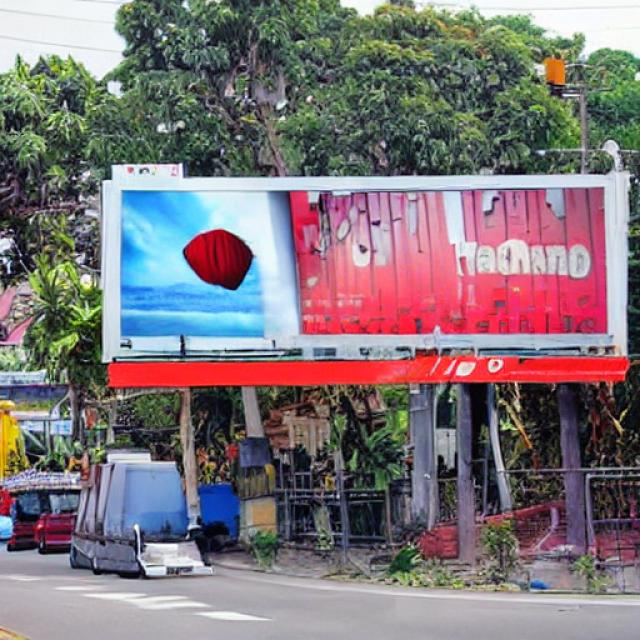Billboard: (101, 170, 628, 370)
